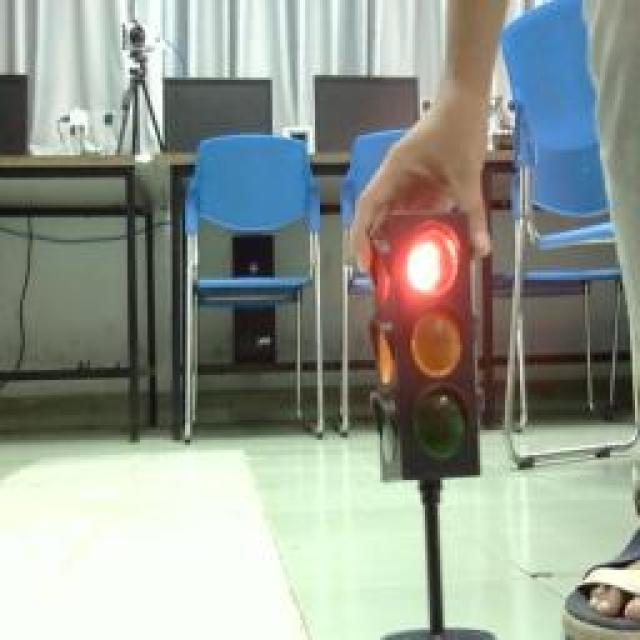-: (401, 221, 471, 301)
